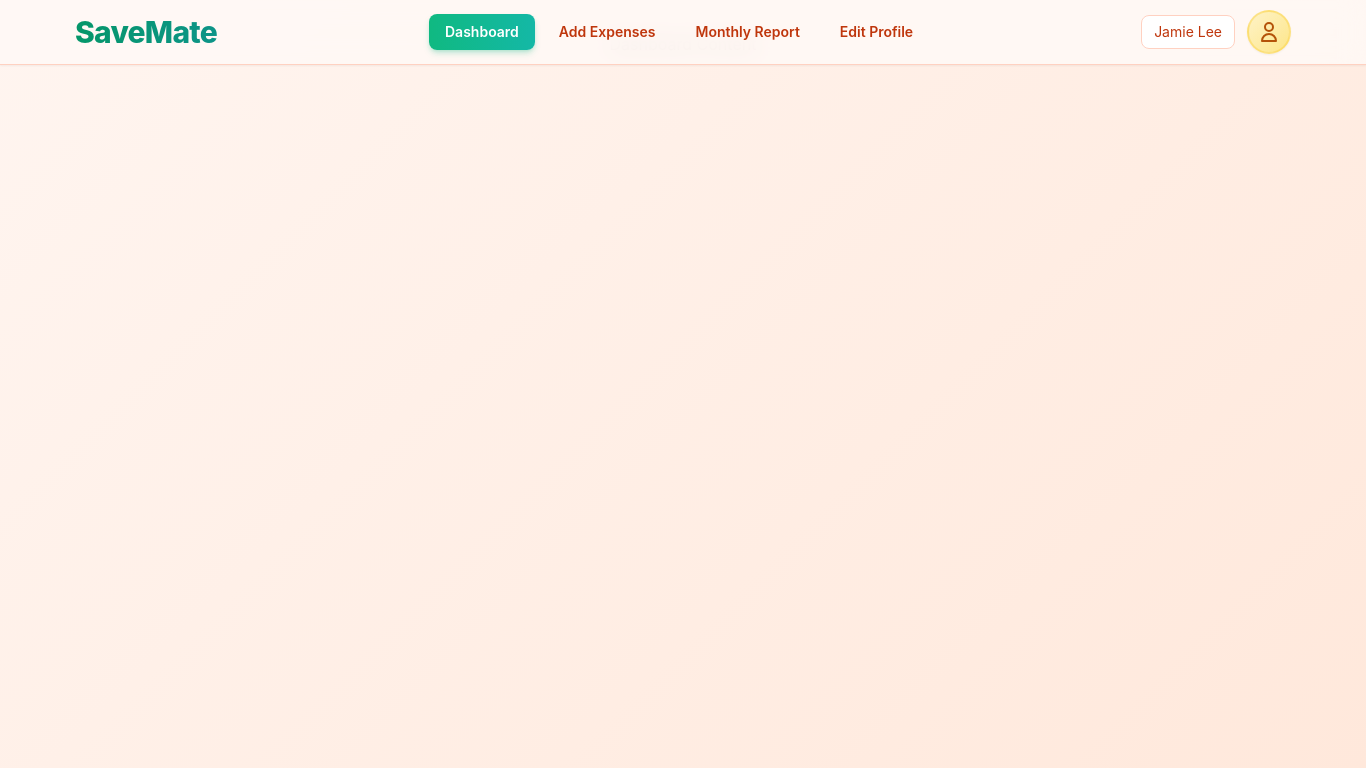
Header navigation › navigates to a selected page via nav buttons
This screenshot has width=1366, height=768.
Click the button "Add Expenses" at coordinates (607, 32), box [543,14,672,50]
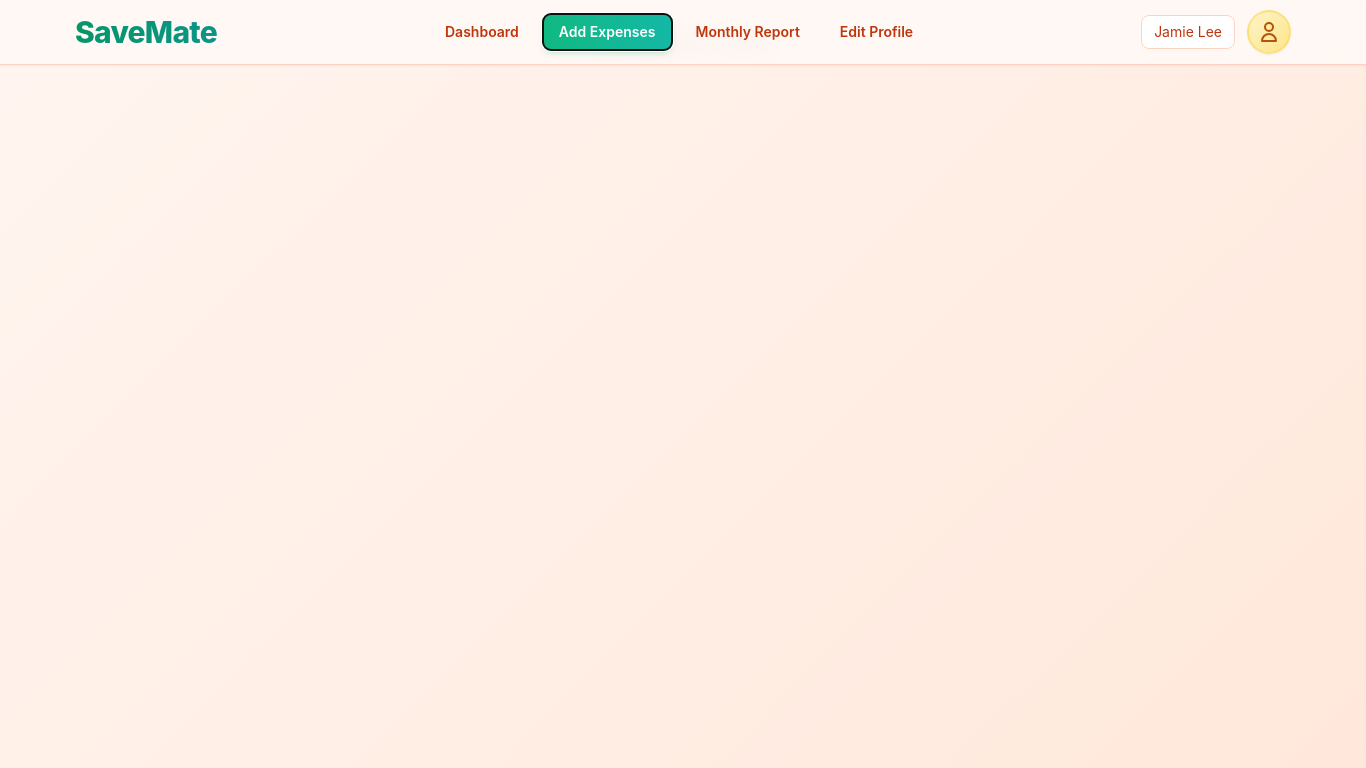
Expected: the text "Add Expenses Content" is shown, [597,34,769,54]
